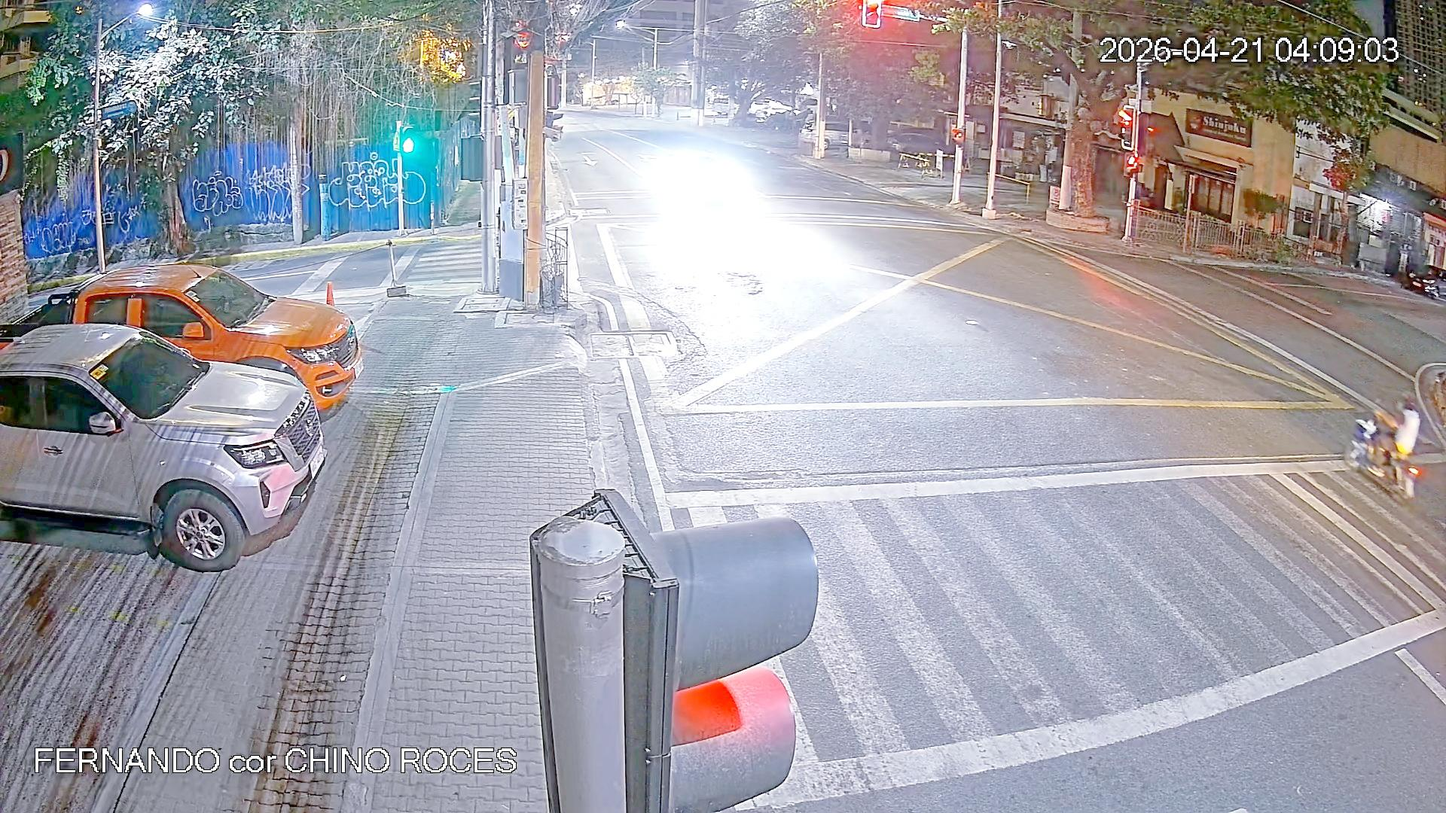Car: (0, 320, 337, 584), (2, 257, 369, 419), (792, 105, 868, 158)
Motor: (1326, 368, 1446, 511)
